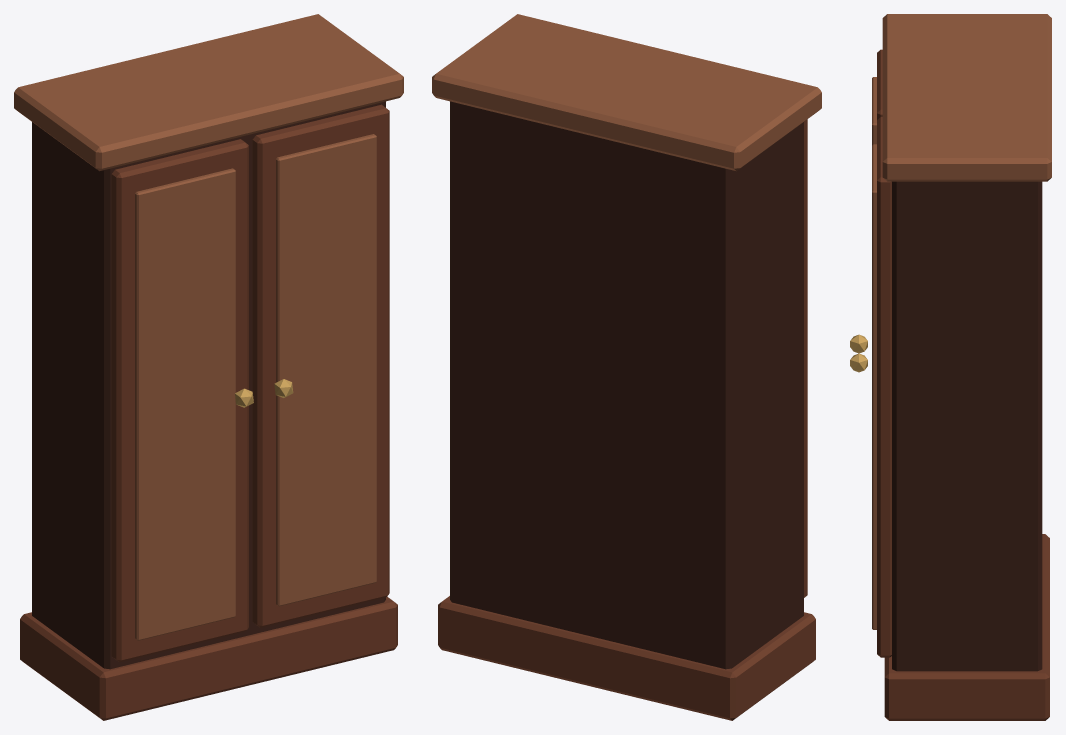
The model's file is service_cabinet.glb.
3 views of the same model, side by side, from view 1: azimuth 30°, elevation 25°; view 2: azimuth 150°, elevation 25°; view 3: azimuth 270°, elevation 25° (orthographic).
Parts seen in each view (by area): view 1: Inset_00, Inset_01, Body, Top, Front_01, Front_00, Plinth; view 2: Body, Top, Plinth, Front_00; view 3: Body, Top, Plinth, Front_01, Inset_01, Front_00, Inset_00.
Boxes of the visible parts, x1=… form: Inset_00: x1=135, y1=168, x2=235, y2=640; Inset_01: x1=276, y1=134, x2=376, y2=606; Body: x1=32, y1=101, x2=385, y2=669; Top: x1=14, y1=14, x2=403, y2=171; Front_01: x1=252, y1=104, x2=389, y2=627; Front_00: x1=111, y1=139, x2=248, y2=662; Plinth: x1=20, y1=596, x2=397, y2=720; Body: x1=450, y1=101, x2=803, y2=669; Top: x1=432, y1=14, x2=821, y2=171; Plinth: x1=438, y1=596, x2=815, y2=720; Front_00: x1=804, y1=119, x2=807, y2=597; Body: x1=892, y1=181, x2=1042, y2=671; Top: x1=882, y1=14, x2=1051, y2=181; Plinth: x1=884, y1=534, x2=1049, y2=720; Front_01: x1=877, y1=117, x2=891, y2=657; Inset_01: x1=872, y1=144, x2=876, y2=629; Front_00: x1=877, y1=49, x2=882, y2=119; Inset_00: x1=872, y1=77, x2=876, y2=145.
Bounding box in the file's own units: 0.93 × 1.66 × 0.5368.
